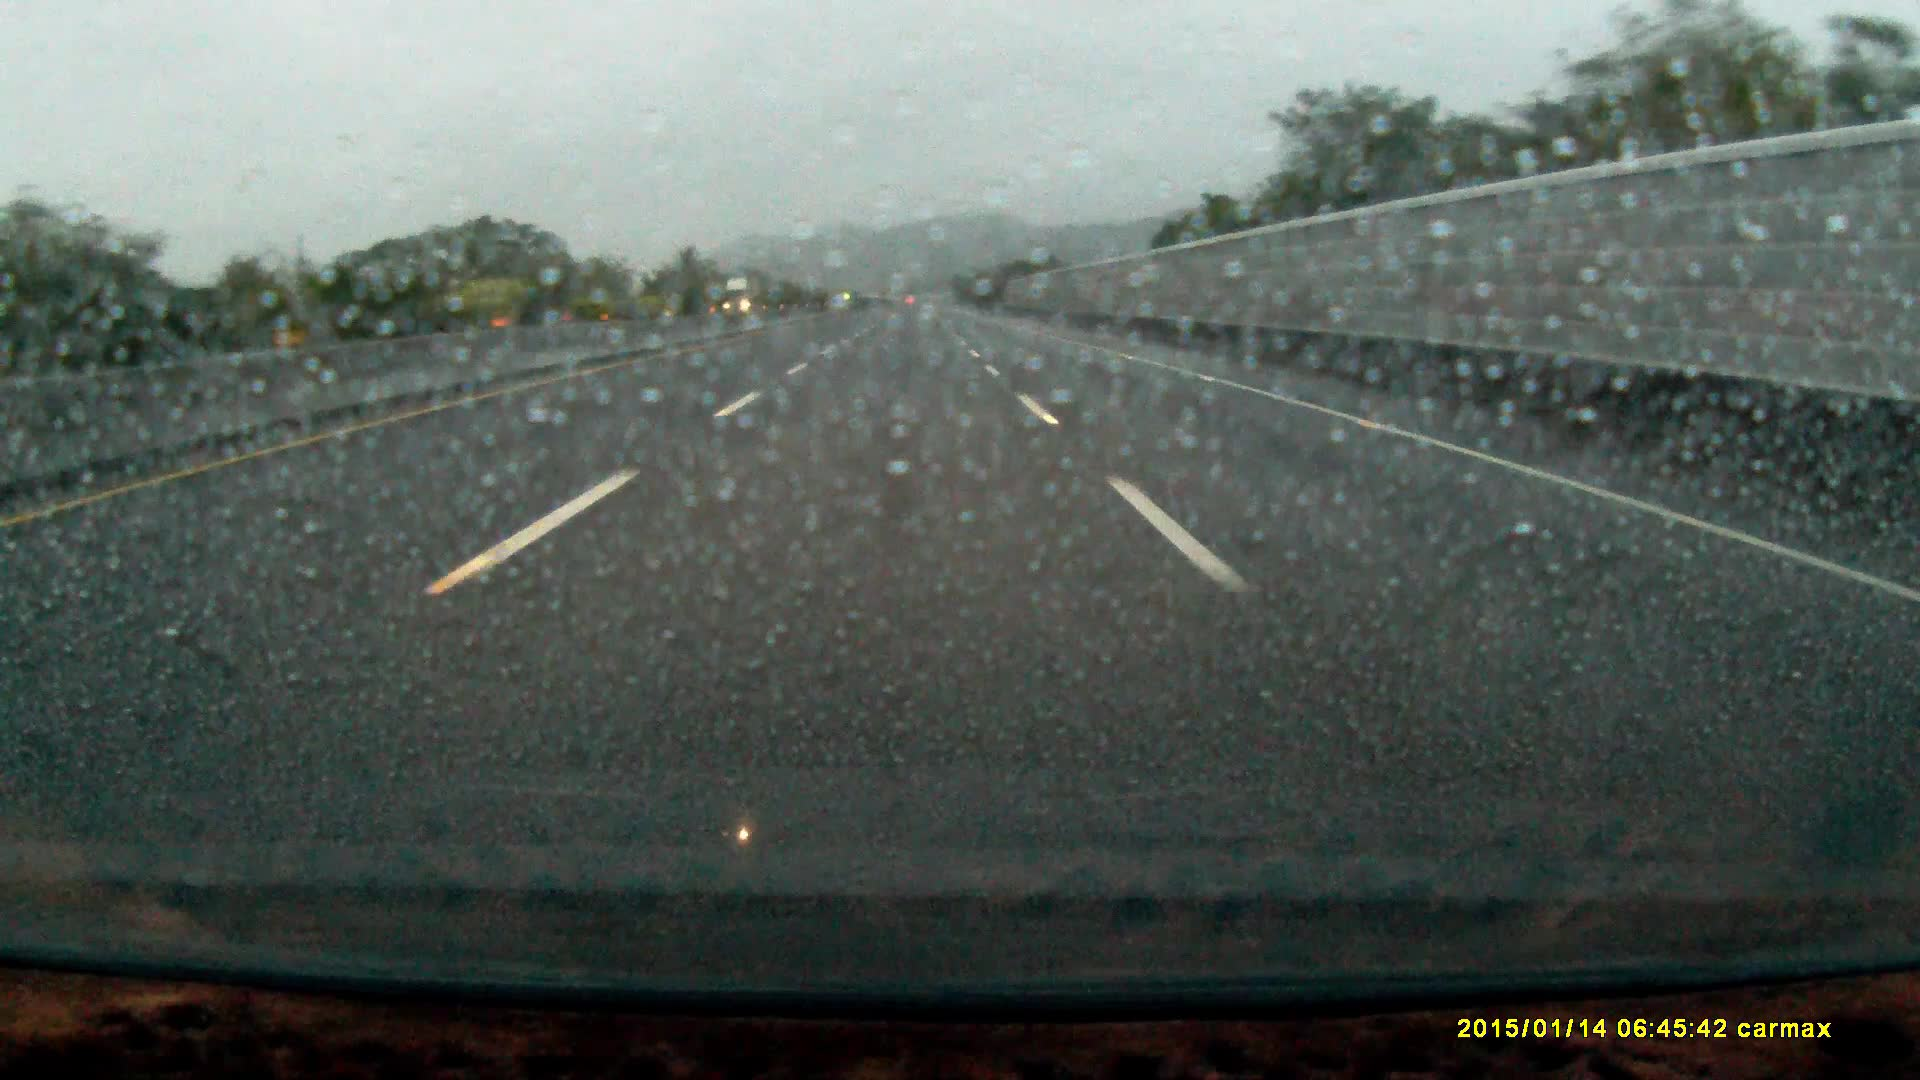vehicle: (723, 278, 762, 316)
